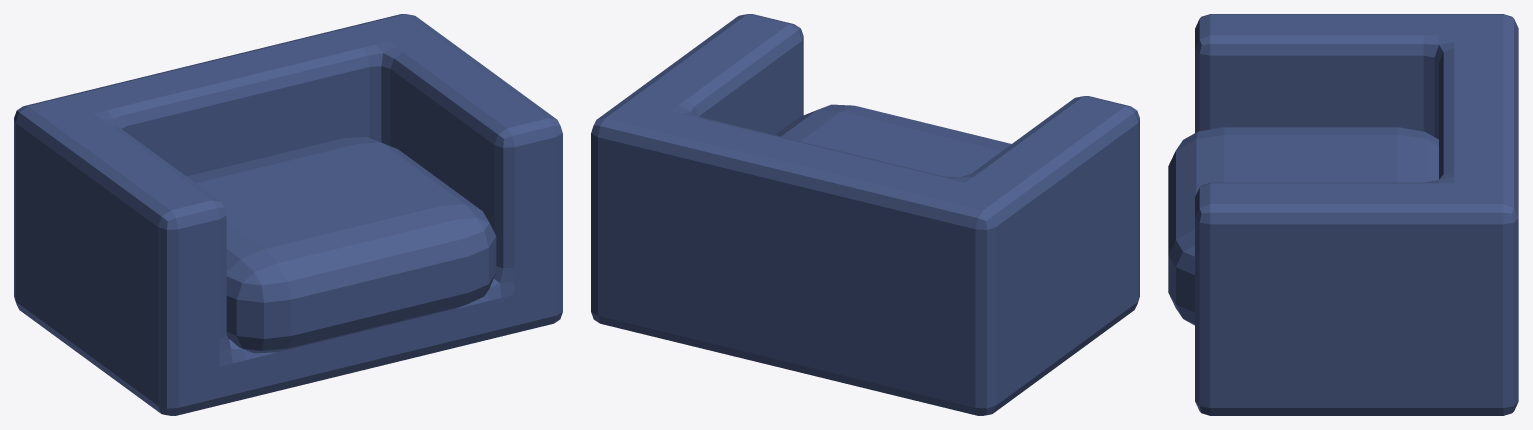
Rendered from Sofa C.glb.
3 renders of one model, left to right at view 1: azimuth 30°, elevation 25°; view 2: azimuth 150°, elevation 25°; view 3: azimuth 270°, elevation 25°, orthographic. The views are drawn at different scales.
Visible parts, largest first — view 1: Sofa C; view 2: Sofa C; view 3: Sofa C.
Boxes of the visible parts, left/top/right/bottom form: Sofa C: left=14, top=14, right=562, bottom=415; Sofa C: left=591, top=14, right=1139, bottom=415; Sofa C: left=1168, top=14, right=1518, bottom=415.
Size of the model in its own units: 557 by 271 by 407.
